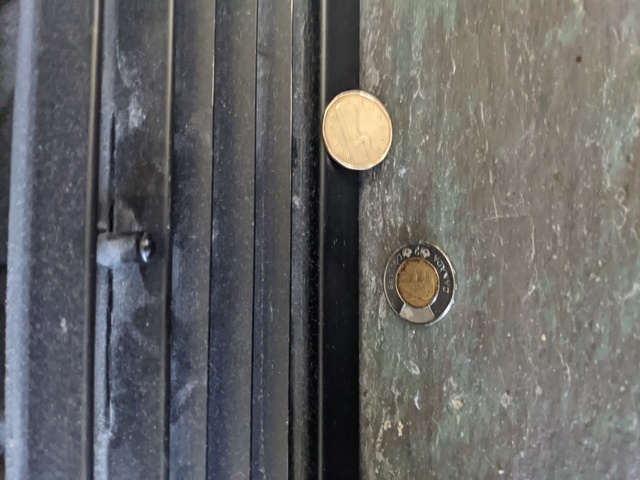loonie: (315, 78, 408, 176)
twonie: (378, 239, 457, 327)
